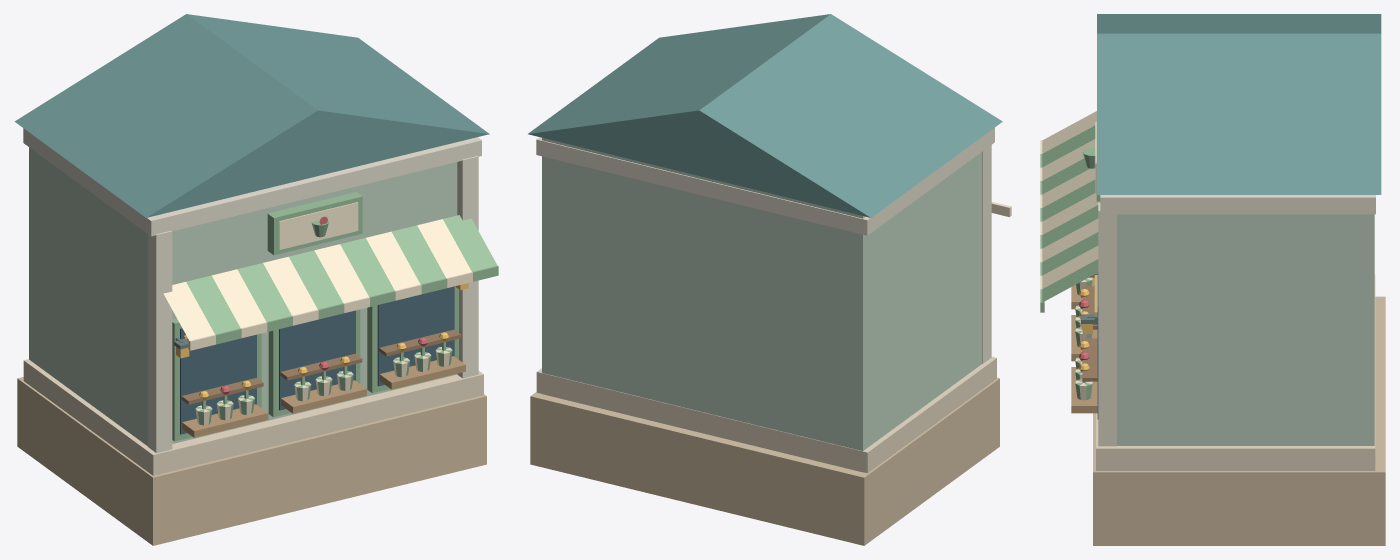
File: Florist.glb
3 renders of one model, left to right at view 1: azimuth 30°, elevation 25°; view 2: azimuth 150°, elevation 25°; view 3: azimuth 270°, elevation 25°, orthographic. The views are drawn at different scales.
Visible parts, largest first — view 1: Florist; view 2: Florist; view 3: Florist.
Part boxes in pixels (x1,y1,x2,y2): Florist: [14, 14, 498, 545]; Florist: [528, 14, 1011, 545]; Florist: [1040, 14, 1385, 545].
Size of the model in its own units: 6.96 by 7.61 by 5.62.
